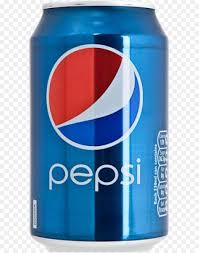pepsi: (48, 45, 149, 150), (47, 158, 145, 191)
